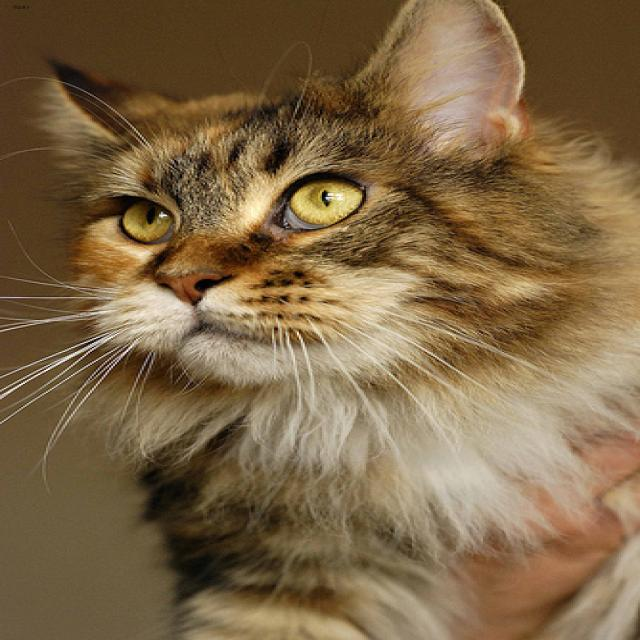cat: (40, 0, 521, 384)
